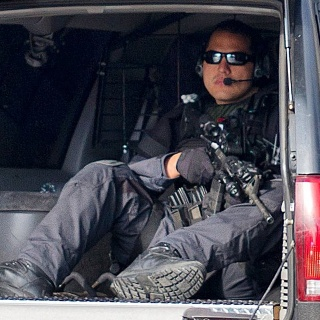rifle: (196, 112, 275, 225)
